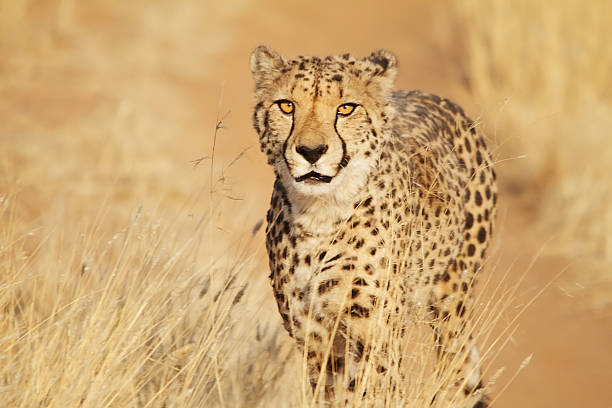cheetah: (239, 35, 410, 224)
